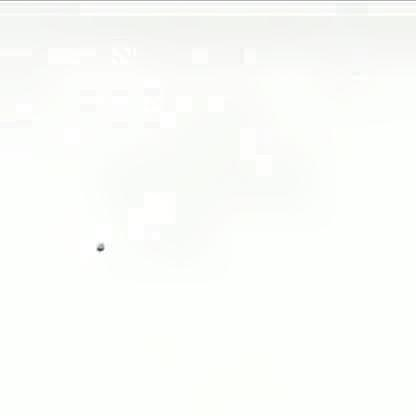golfball: (94, 236, 104, 247)
